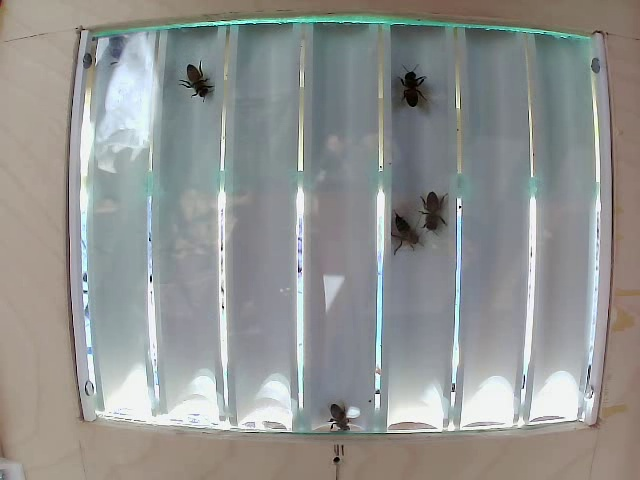bee: (174, 55, 215, 105), (382, 201, 417, 259), (394, 70, 437, 114), (417, 187, 444, 241)
